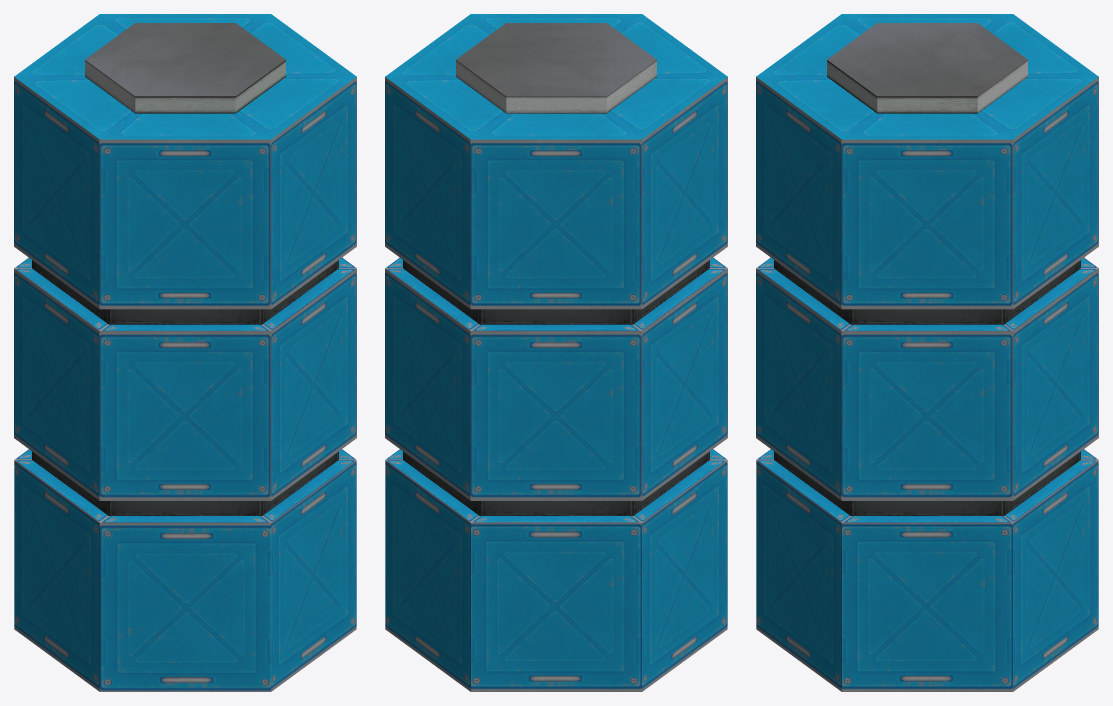
File: CargoBox_01.fbx
3 renders of one model, left to right at view 1: azimuth 30°, elevation 25°; view 2: azimuth 150°, elevation 25°; view 3: azimuth 270°, elevation 25°, orthographic.
Parts seen in each view (by area): view 1: CargoBox_01; view 2: CargoBox_01; view 3: CargoBox_01.
Boxes of the visible parts, x1,y1,x2,y2 form: CargoBox_01: [14, 14, 356, 691]; CargoBox_01: [385, 14, 727, 691]; CargoBox_01: [756, 14, 1098, 691].
Bounding box in the file's own units: 59.09 × 125 × 68.23.
